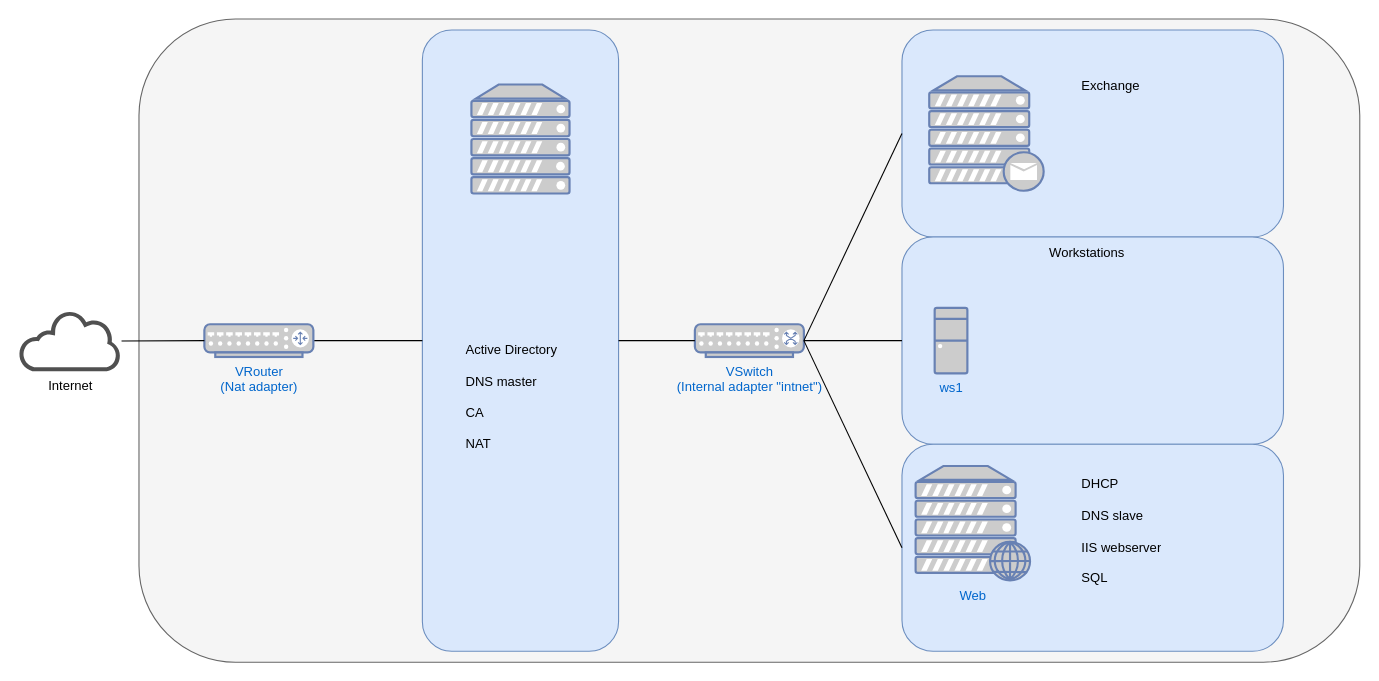
The diagram is 1379 pixels wide and 681 high, and some of its shapes have lost their labels. The shapes that lost their labels are listed below. From the top down, each one's centre as x and y in pixels, then its label:
point (520, 138): DC
point (986, 133): Mail
